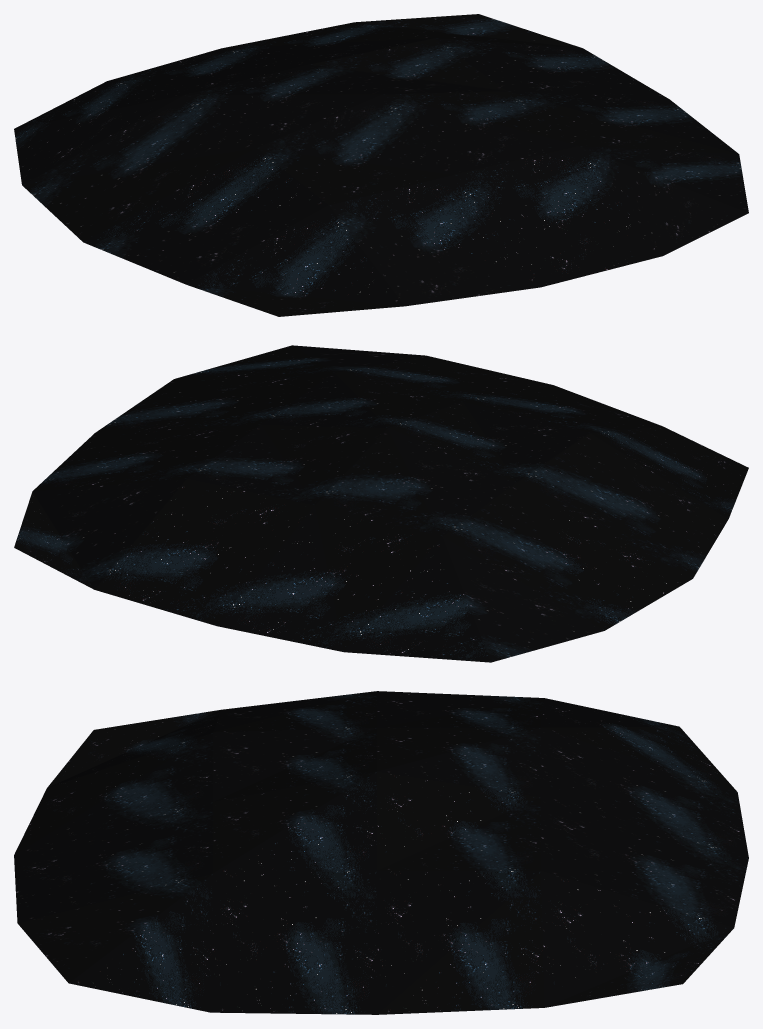
File: sky.obj
3 views of the same model, one above another, from view 1: azimuth 30°, elevation 25°; view 2: azimuth 150°, elevation 25°; view 3: azimuth 270°, elevation 25° (orthographic). The views are drawn at different scales.
Visible parts, largest first — view 1: sky_sterne; view 2: sky_sterne; view 3: sky_sterne.
Part boxes in pixels (left/top/right/bottom): sky_sterne: left=14, top=14, right=748, bottom=316; sky_sterne: left=14, top=345, right=748, bottom=662; sky_sterne: left=14, top=691, right=748, bottom=1014.
Size of the model in its own units: 8840 by 1080 by 8480.
1 material, 1 textured.
